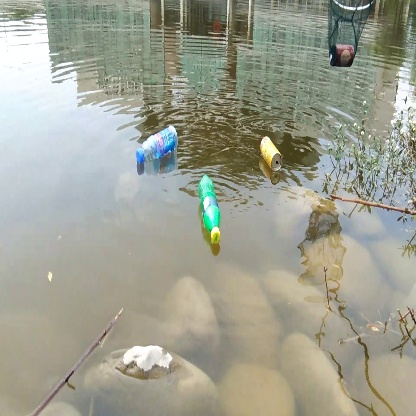bottle: (130, 123, 182, 170), (195, 175, 225, 244), (257, 131, 287, 175)
